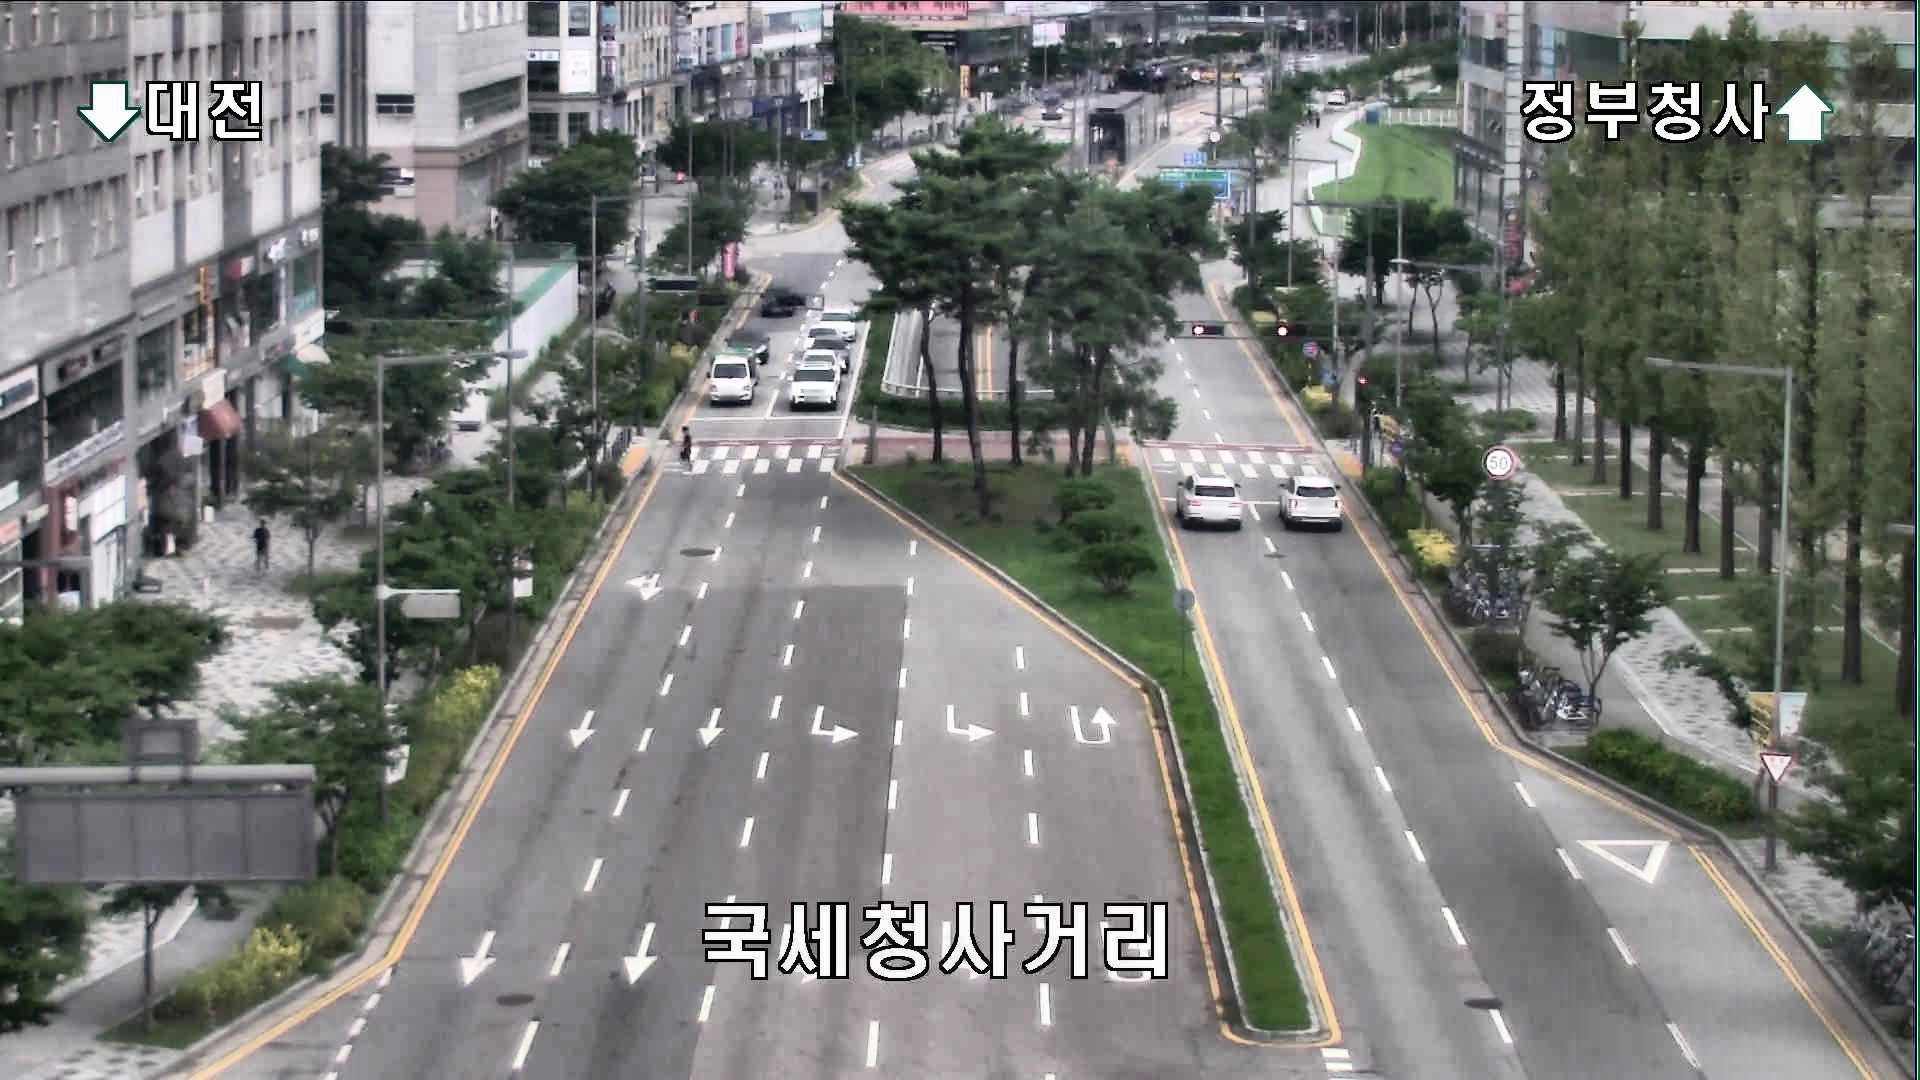crosswalk: (676, 422, 695, 473)
sidewalk: (249, 518, 273, 574)
